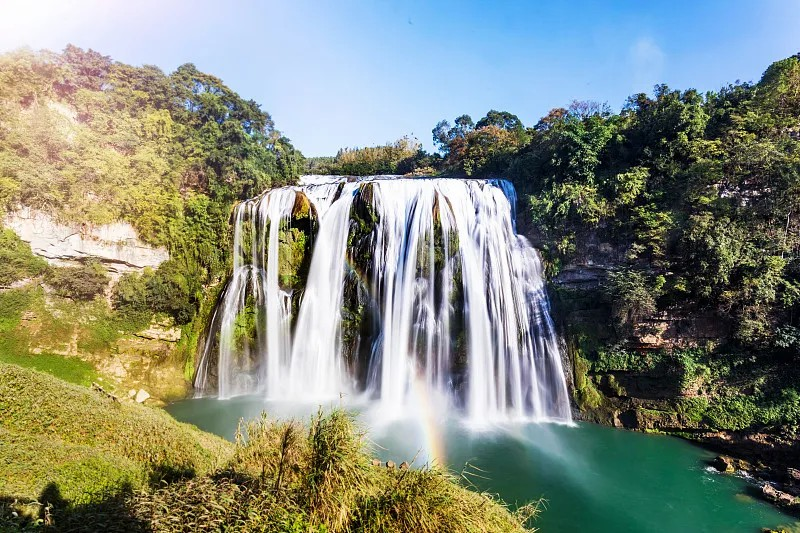Huangguoshu: (209, 174, 572, 425)
